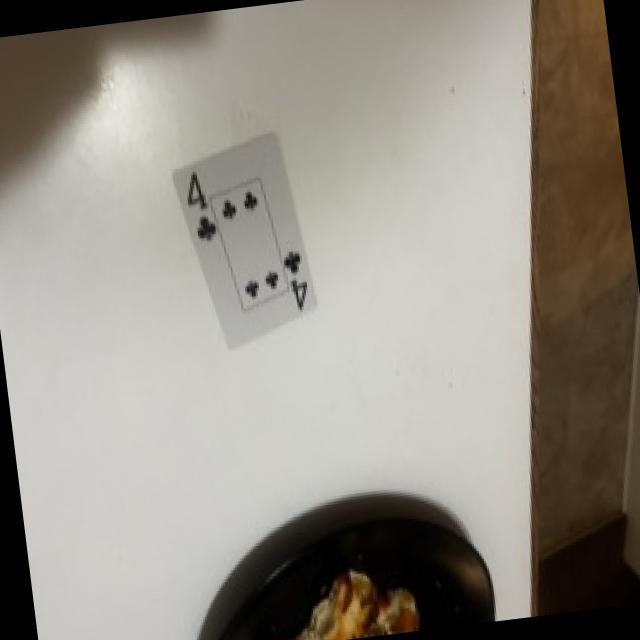4 of clubs: (172, 133, 315, 348)
